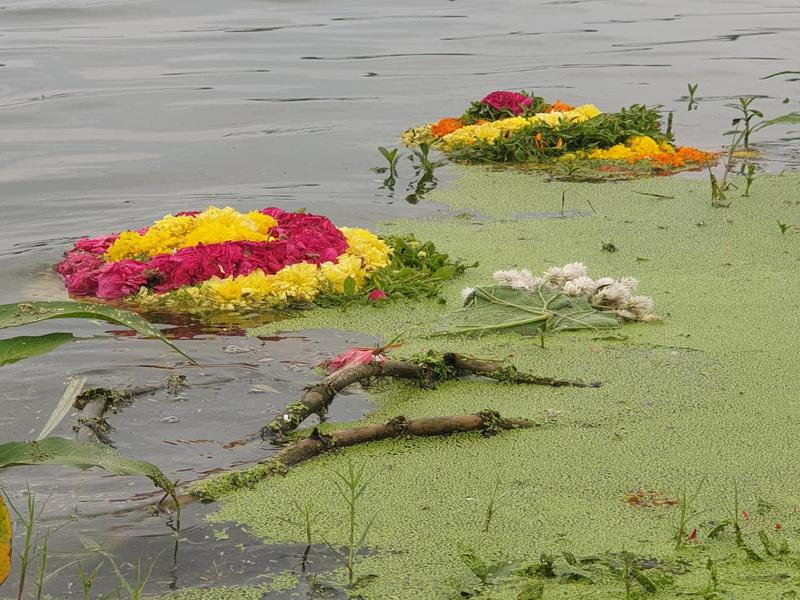flowers: (52, 201, 400, 322), (387, 86, 724, 171), (457, 262, 669, 325)
